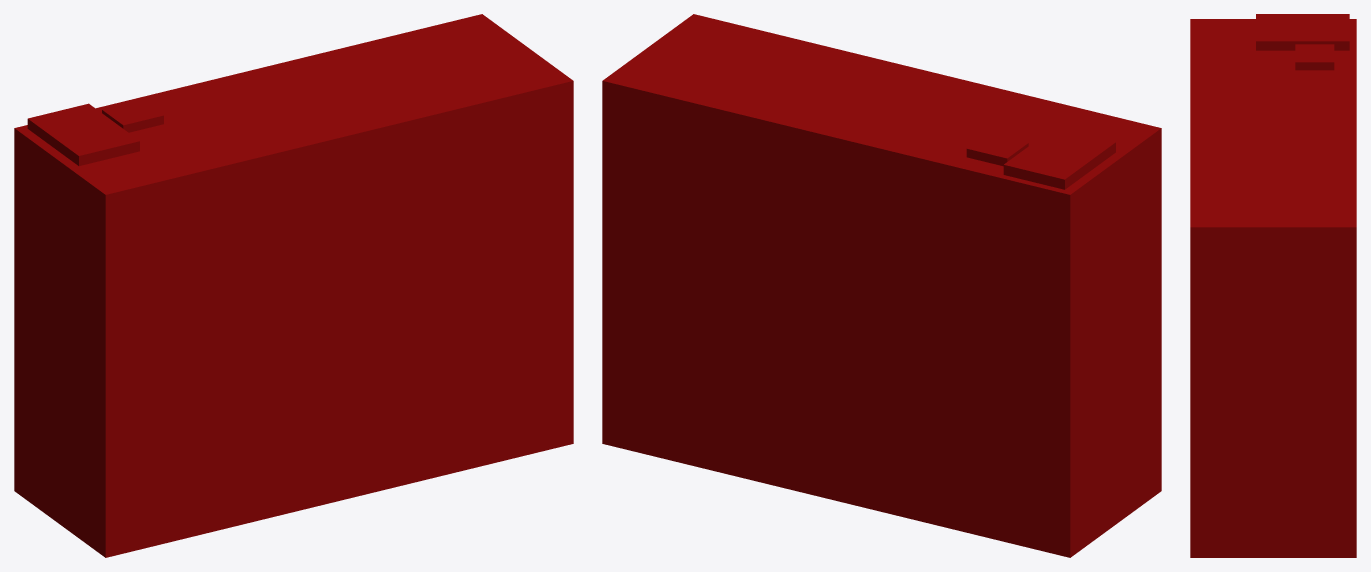
File: pM_UPS_low.FBX
3 renders of one model, left to right at view 1: azimuth 30°, elevation 25°; view 2: azimuth 150°, elevation 25°; view 3: azimuth 270°, elevation 25°, orthographic. The views are drawn at different scales.
Parts seen in each view (by area): view 1: ups; view 2: ups; view 3: ups.
Part boxes in pixels (x1,y1,x2,y2): ups: [14, 14, 573, 557]; ups: [602, 14, 1161, 557]; ups: [1190, 14, 1356, 557].
Bounding box in the file's own units: 3.52 × 2.68 × 1.19.
